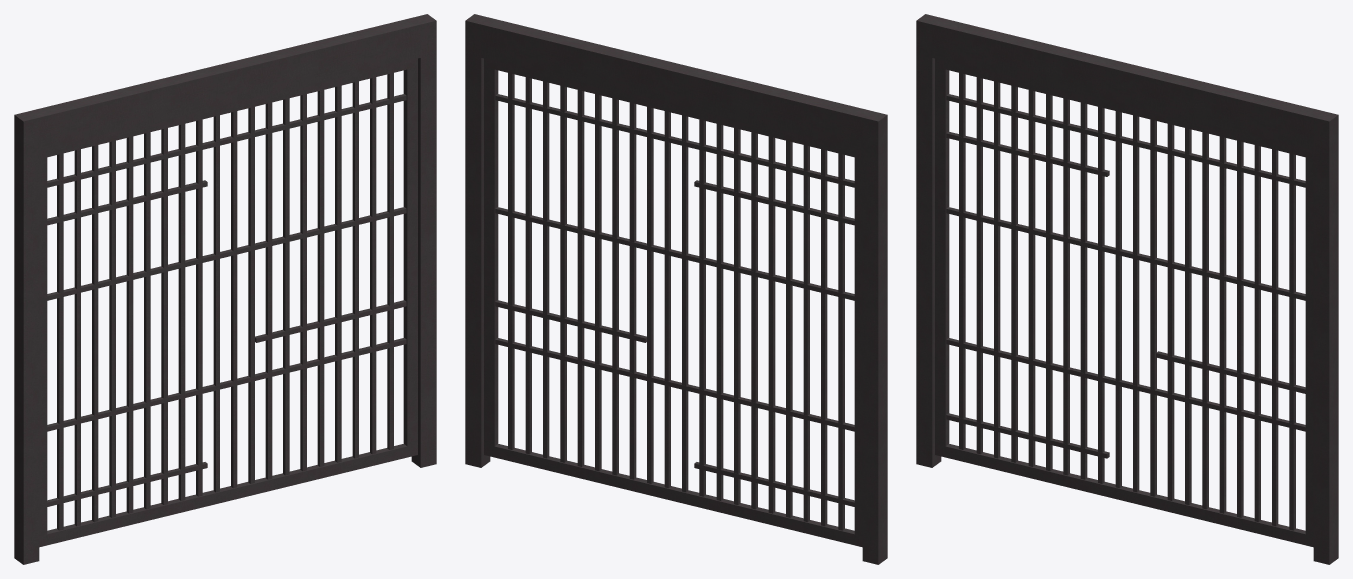
The model's file is es-kyomatiya-oboro_h2000-w1950_kakicha.fbx.
3 renders of one model, left to right at view 1: azimuth 30°, elevation 25°; view 2: azimuth 150°, elevation 25°; view 3: azimuth 330°, elevation 25°, orthographic.
Parts seen in each view (by area): view 1: es-kyomatiya-oboro_h2000-w1950_kakicha; view 2: es-kyomatiya-oboro_h2000-w1950_kakicha; view 3: es-kyomatiya-oboro_h2000-w1950_kakicha.
Part boxes in pixels (<box>): es-kyomatiya-oboro_h2000-w1950_kakicha: <box>14,14,436,564</box>; es-kyomatiya-oboro_h2000-w1950_kakicha: <box>465,14,887,564</box>; es-kyomatiya-oboro_h2000-w1950_kakicha: <box>916,14,1338,564</box>.
Bounding box in the file's own units: 195 × 200 × 7.5.
Materials: 2 (2 with a texture image).
